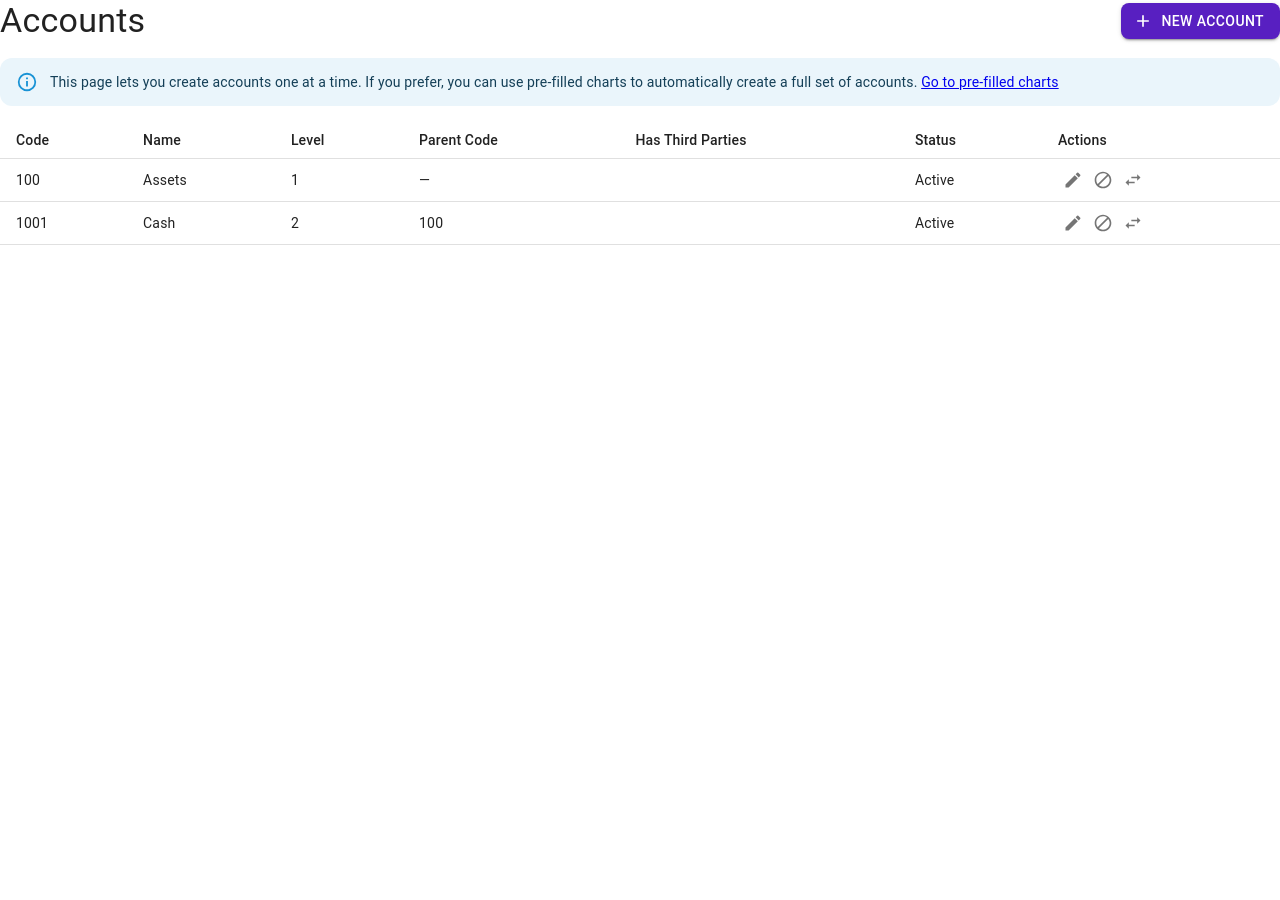
Test: AccountsPage › Deactivate button opens confirmation dialog for active account
The width and height of the screenshot is (1280, 900).
Click the button with test id "deactivate-account-acc-1": (1103, 180) [1088, 165, 1118, 195]
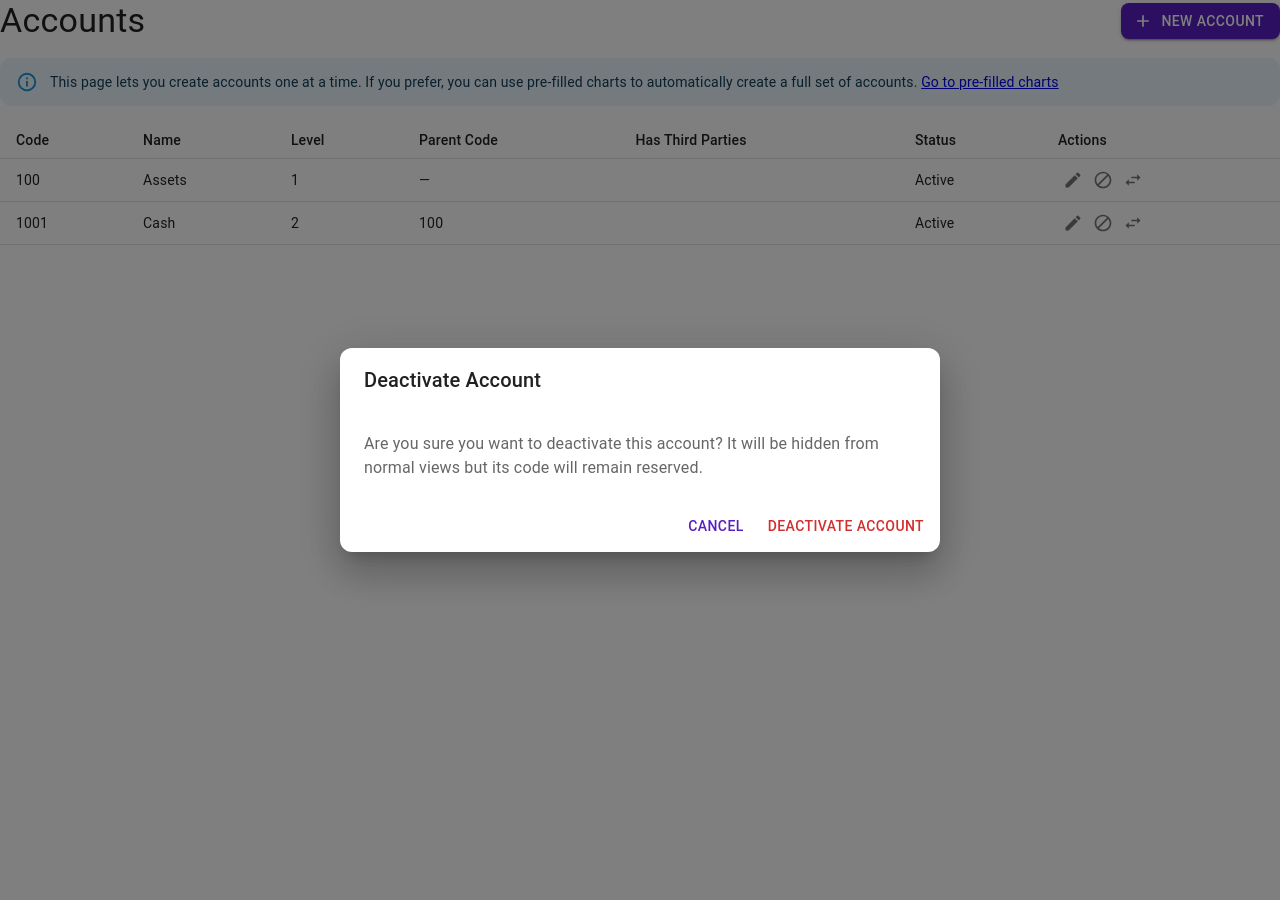
expect the text "deactivate this account" is shown: met, box [364, 434, 879, 477]
